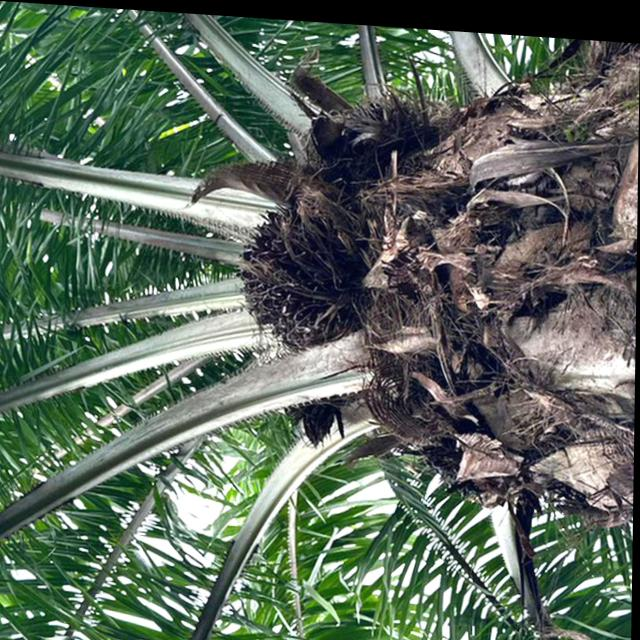almost: (235, 187, 360, 362)
